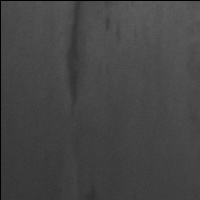inclusion: (64, 2, 94, 122), (101, 10, 126, 45), (78, 165, 99, 200)
